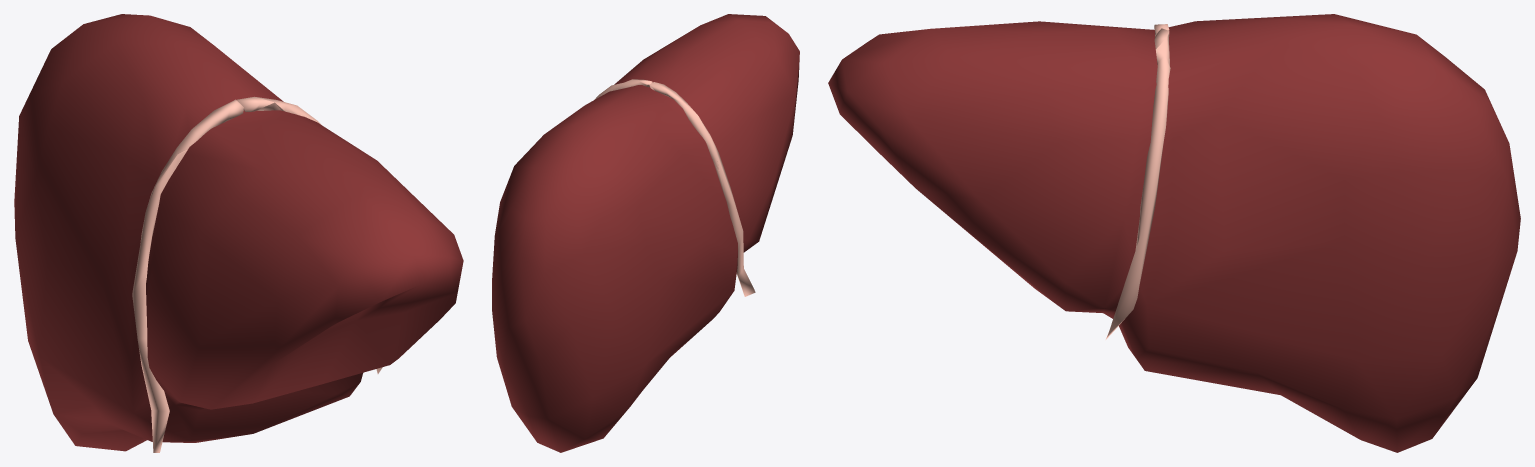
The model's file is liver.fbx.
3 renders of one model, left to right at view 1: azimuth 30°, elevation 25°; view 2: azimuth 150°, elevation 25°; view 3: azimuth 270°, elevation 25°, orthographic. The views are drawn at different scales.
Visible parts, largest first — view 1: LIVER:Group48078, LIVER:Group65111; view 2: LIVER:Group48078, LIVER:Group65111; view 3: LIVER:Group48078, LIVER:Group65111.
Part boxes in pixels (x1,y1,x2,y2): LIVER:Group48078: [14, 14, 463, 451]; LIVER:Group65111: [132, 96, 382, 452]; LIVER:Group48078: [492, 14, 799, 452]; LIVER:Group65111: [594, 79, 755, 296]; LIVER:Group48078: [828, 14, 1520, 452]; LIVER:Group65111: [1105, 24, 1170, 339].
Size of the model in its own units: 7.55 by 13.18 by 19.61.
